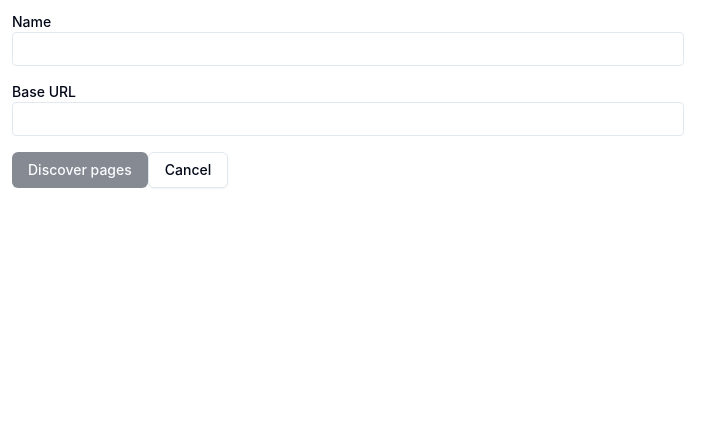
Test: SiteWizard › Discover click POSTs /api/sites then /api/sites/:id/discover in sequence
Step 1. Type "TestSite" into the field labelled "Name" → {"x": 348, "y": 49}, box [12,32,684,66]
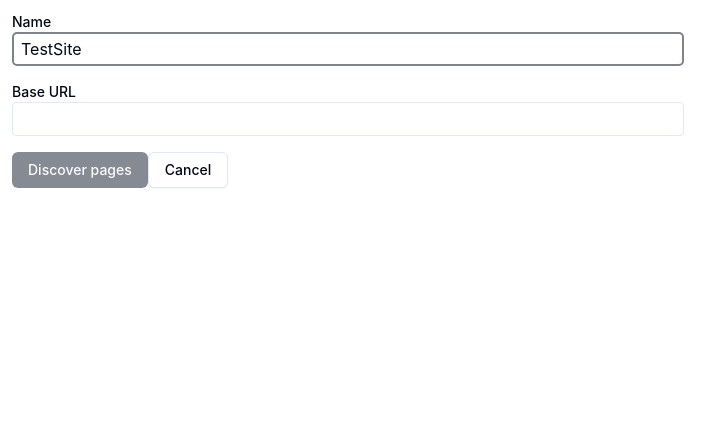
Step 2. Type "https://example.com" into the field labelled "Base URL" → {"x": 348, "y": 119}, box [12,102,684,136]
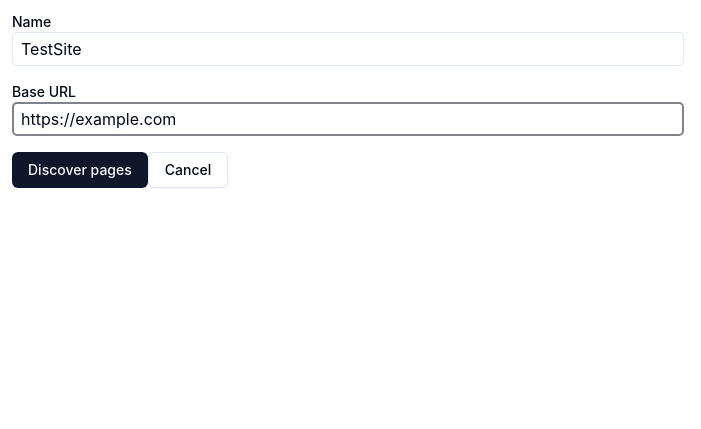
Step 3. Click the button "Discover pages" → {"x": 80, "y": 170}, box [12,152,148,188]
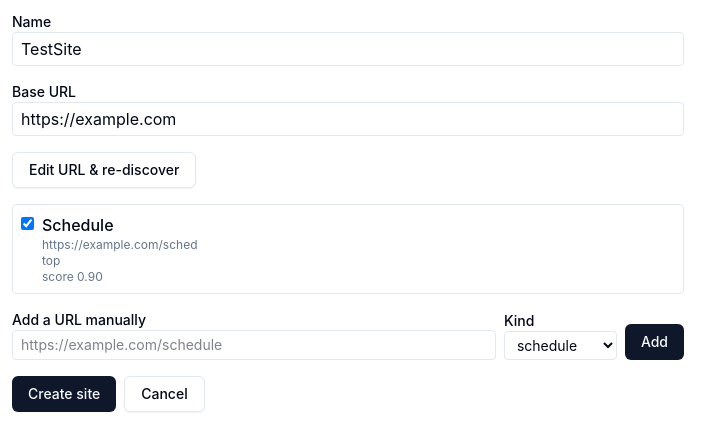
Expected: the text "Schedule" is shown, [42,215,114,235]
